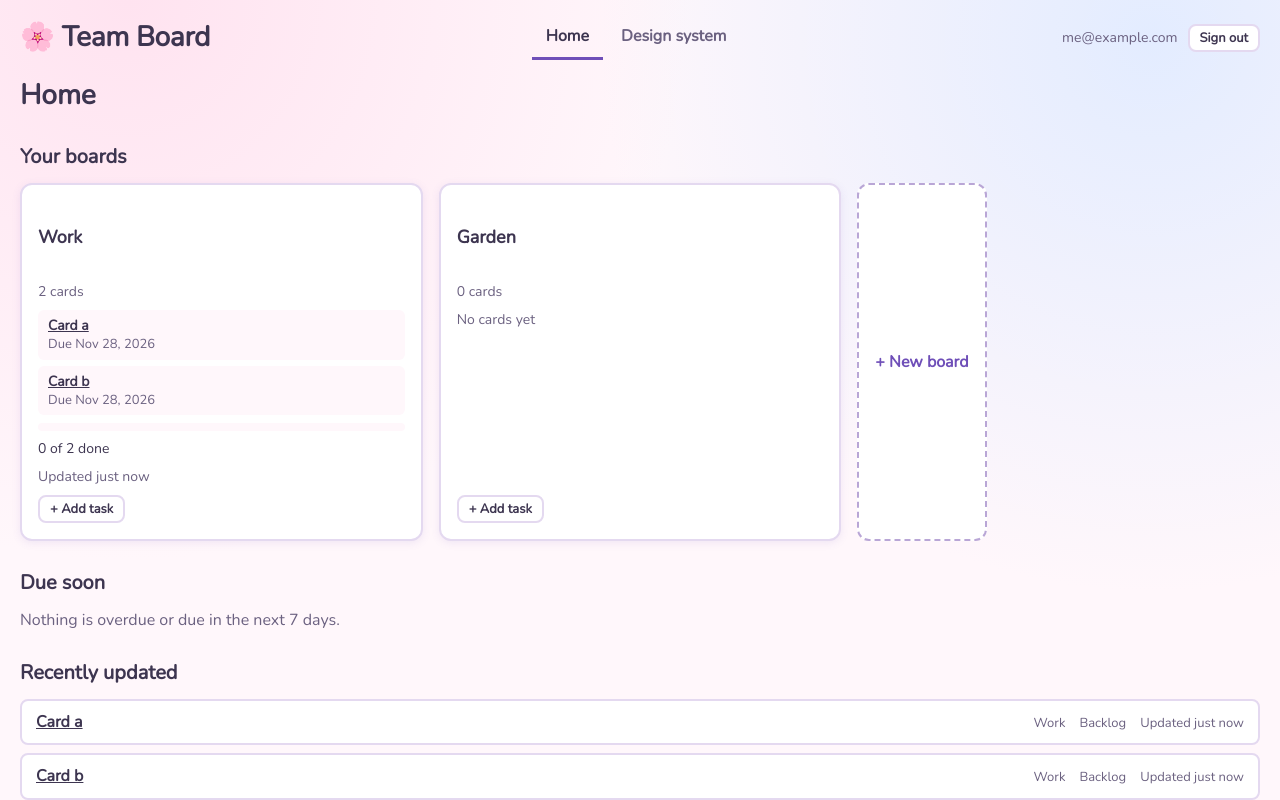
Test: moving around › opens a board from its tile, focuses the new heading, and updates address and title
Click the link "Work" at (60, 237), box [38, 225, 82, 249]
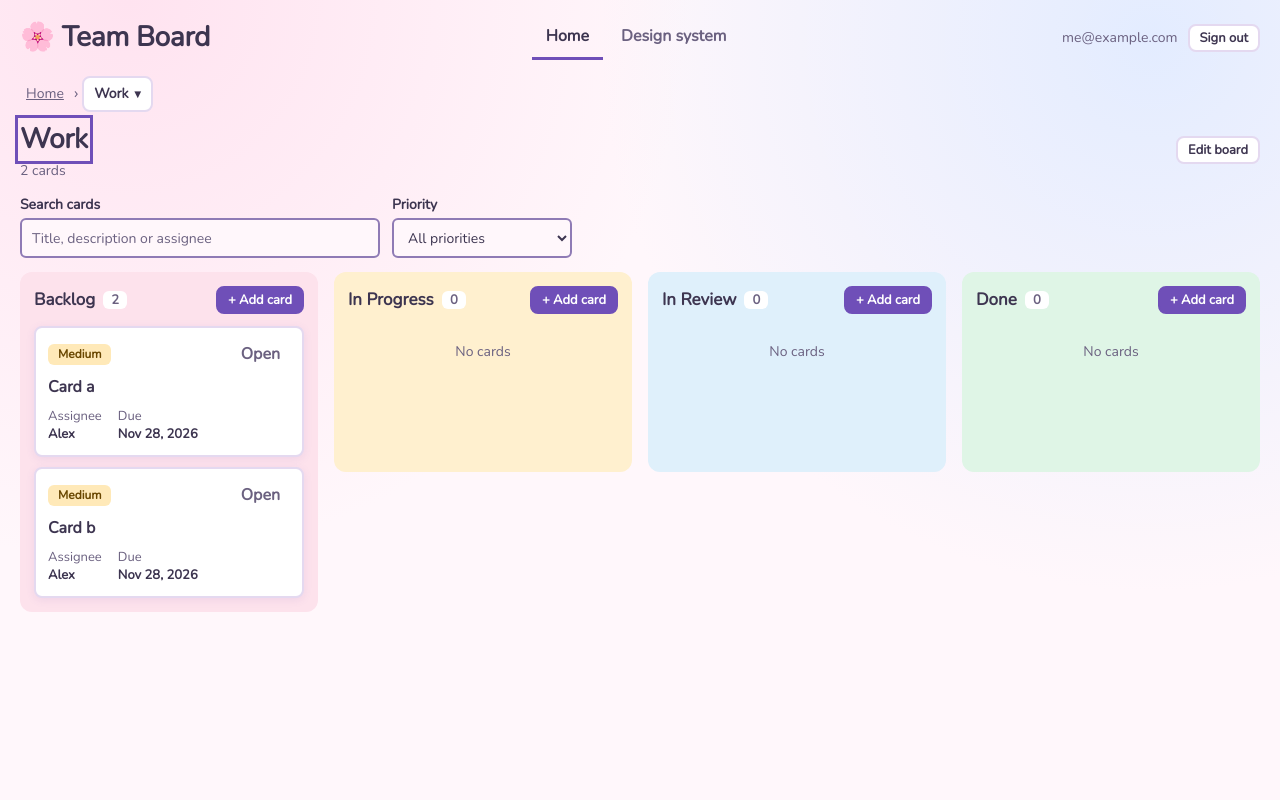
Now the element named "Board: Work" is shown
Now the text "2 cards" is shown, box [20, 161, 66, 181]
